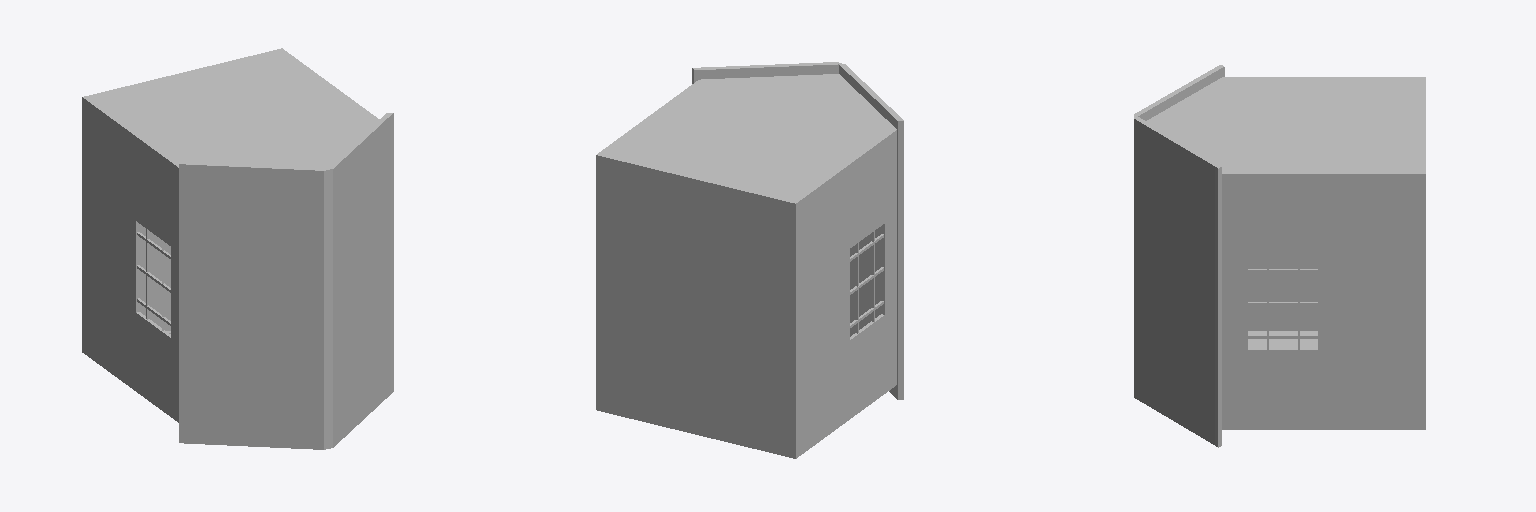
Rendered from doghouse.obj.
3 renders of one model, left to right at view 1: azimuth 30°, elevation 25°; view 2: azimuth 150°, elevation 25°; view 3: azimuth 270°, elevation 25°, orthographic.
Parts seen in each view (by area): view 1: doghouse; view 2: doghouse; view 3: doghouse.
Boxes of the visible parts, <box> form: doghouse: <box>82,48,393,449</box>; doghouse: <box>596,62,903,458</box>; doghouse: <box>1134,65,1425,447</box>.
Bounding box in the file's own units: 1.13 × 1.41 × 1.34.